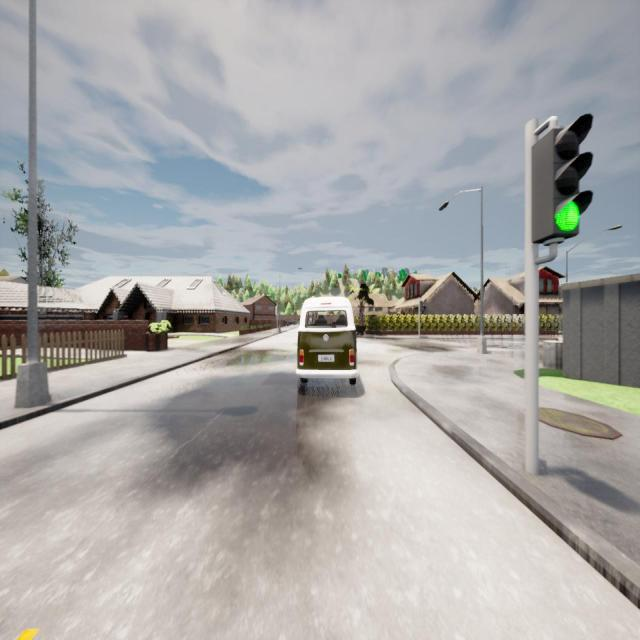Vehicle: (296, 296, 357, 384)
traffic_light: (532, 114, 592, 244), (420, 300, 423, 313)
